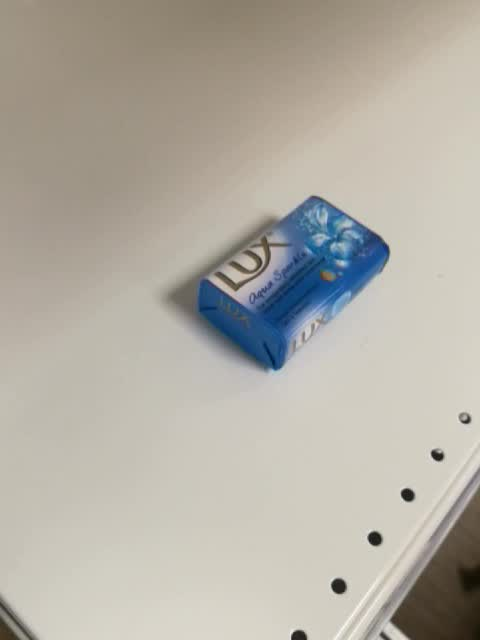soap: (197, 195, 392, 372)
